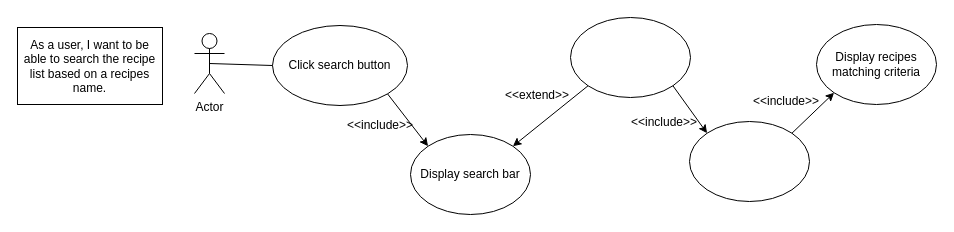
Image size: 954x232. Some labels were removed from this diagram. Here are the shapes that lost their labels. From the top down, the centre of each, then its label:
point 630,57: Enter search text
point 749,161: Load database
